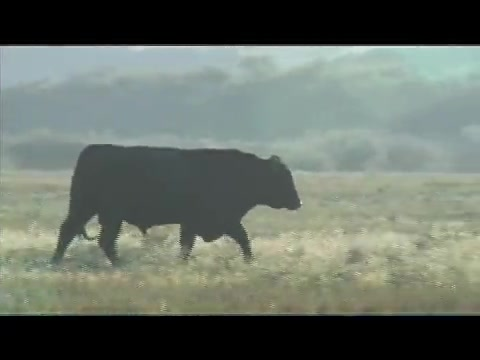cow: (51, 143, 304, 268)
